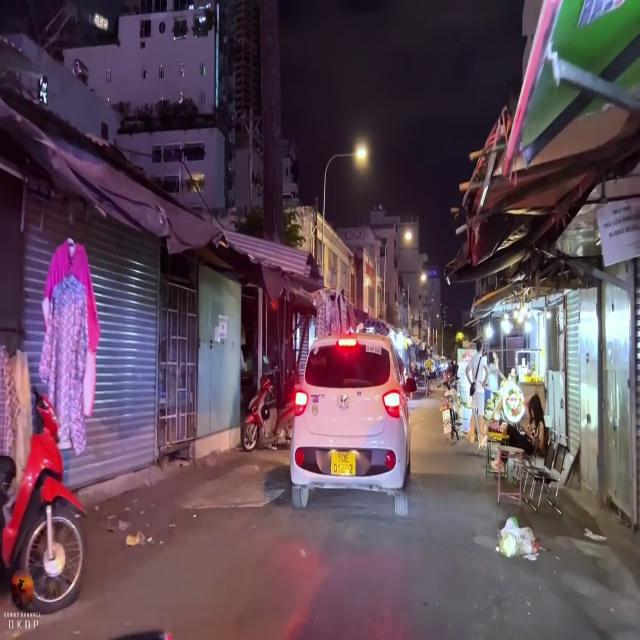bien_vang: (330, 447, 358, 480)
